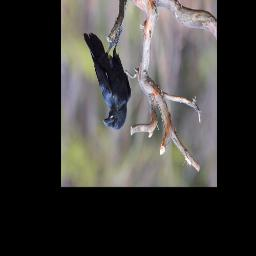Crow: (82, 28, 131, 131)
